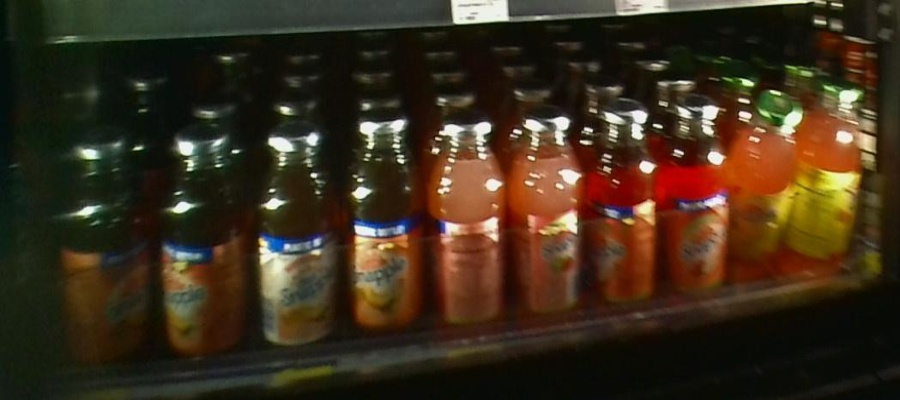bottle: (57, 124, 153, 379), (157, 121, 249, 372), (251, 121, 337, 366), (341, 107, 427, 347), (427, 105, 510, 339), (586, 96, 660, 317), (512, 109, 585, 329), (728, 83, 801, 282), (662, 92, 729, 301), (806, 67, 866, 282)
